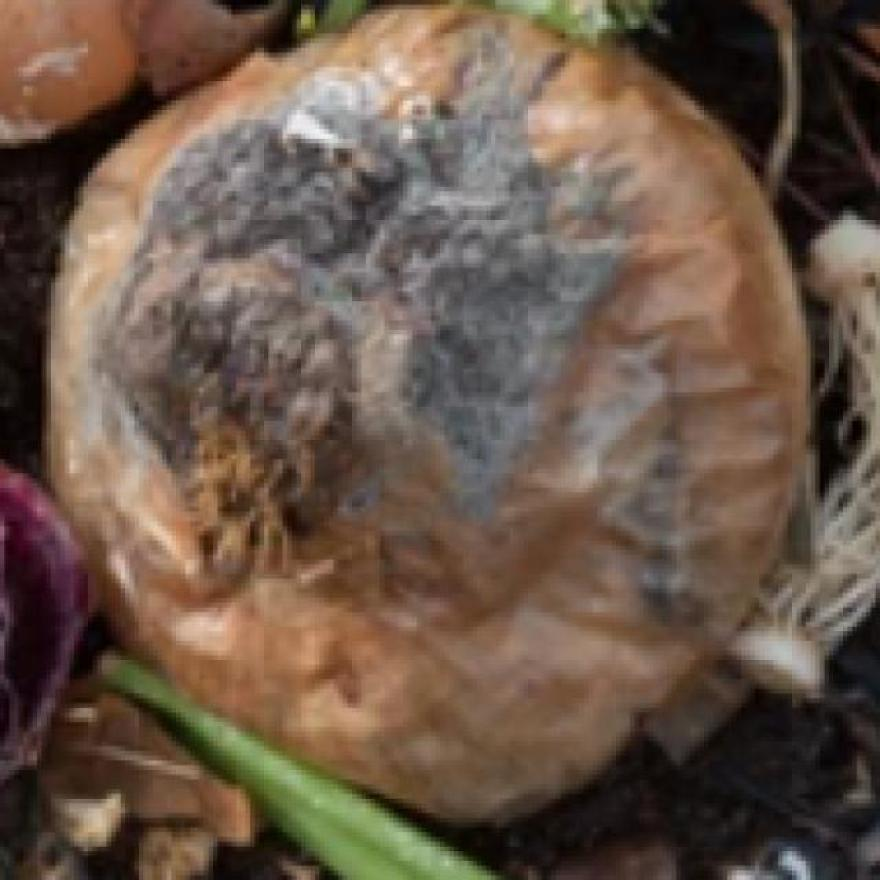Rotten: (176, 115, 538, 454)
